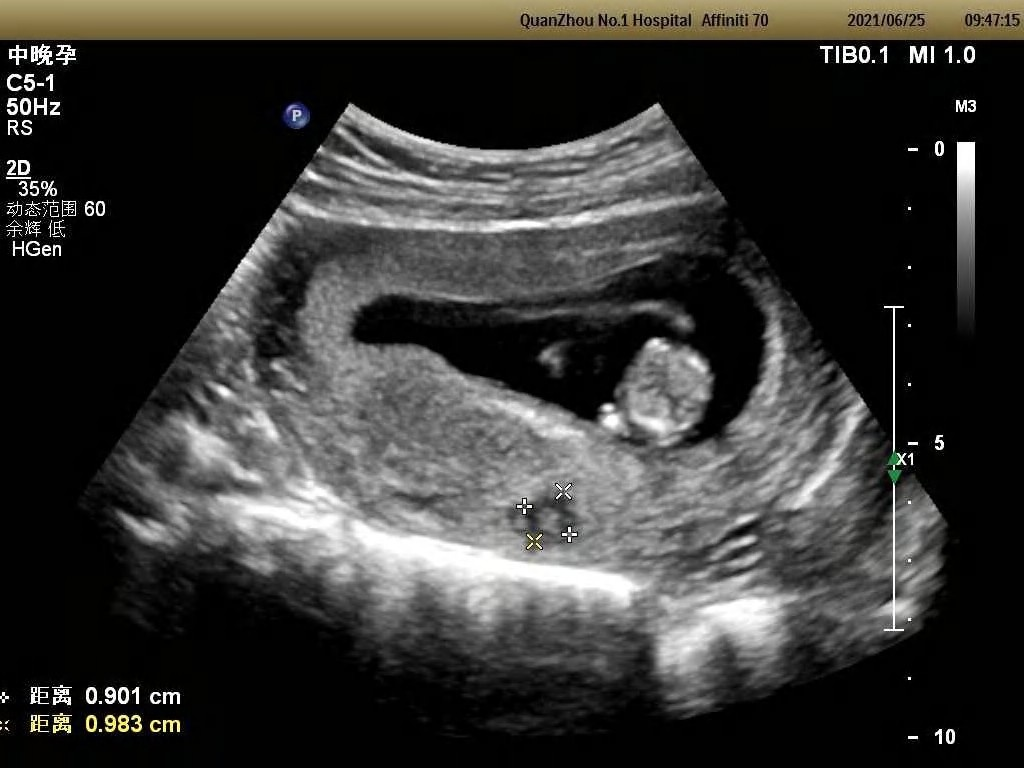肌瘤: (523, 491, 572, 543)
